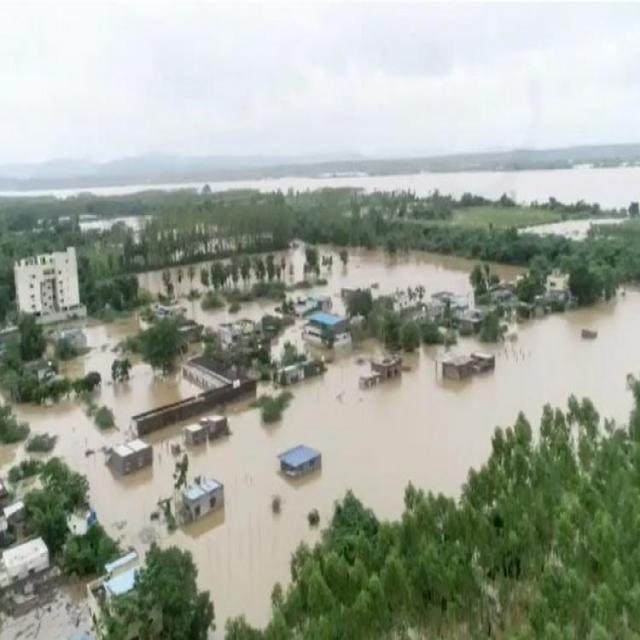flood: (15, 288, 640, 640), (207, 166, 640, 208), (309, 246, 475, 312), (137, 261, 276, 328), (0, 582, 92, 640), (492, 265, 526, 286), (548, 270, 570, 292)
house: (13, 250, 88, 328), (92, 548, 146, 604), (0, 535, 53, 588), (176, 478, 226, 524), (104, 438, 150, 478), (279, 441, 322, 478), (304, 314, 352, 347), (444, 356, 472, 382)
